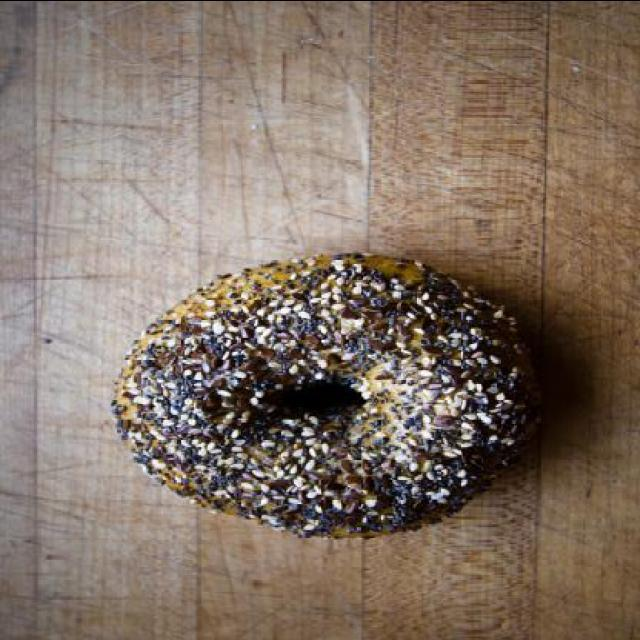Bagel: (107, 250, 539, 538)
